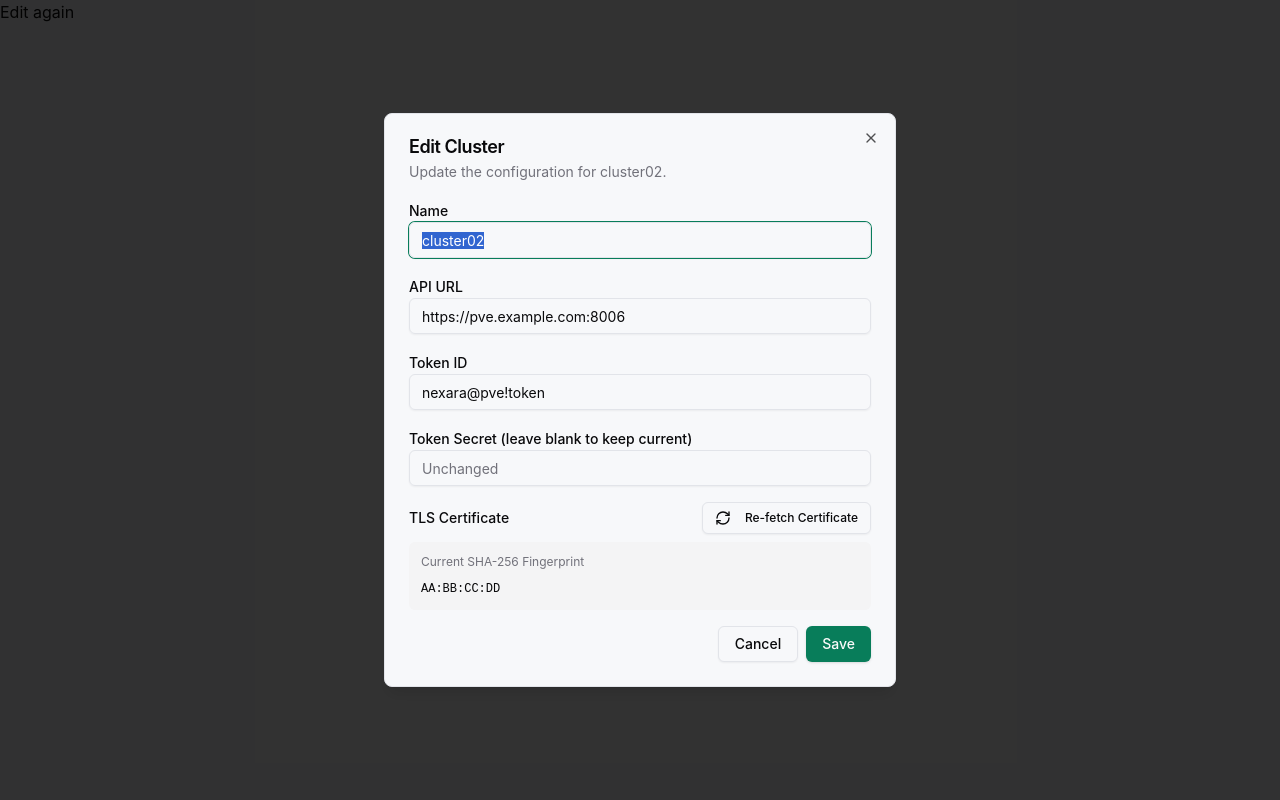
Scenario: a cluster save that settles › toasts a failure that comes after the dialog was dismissed, once, naming the cluster
Type " renamed" into the field labelled "Name".
click(640, 240); type(" renamed")  # box [409,222,871,258]
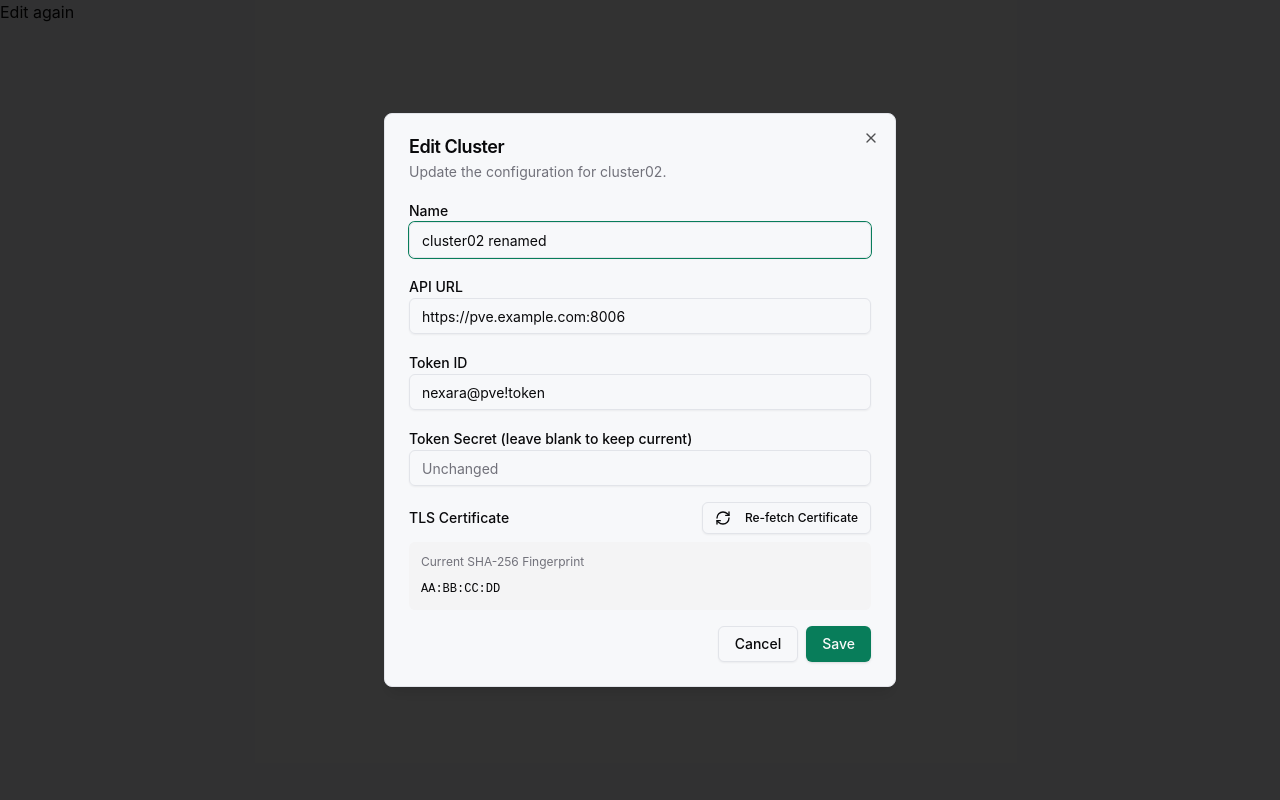
Click the button "Save".
click(839, 644)  # box [806,626,871,662]
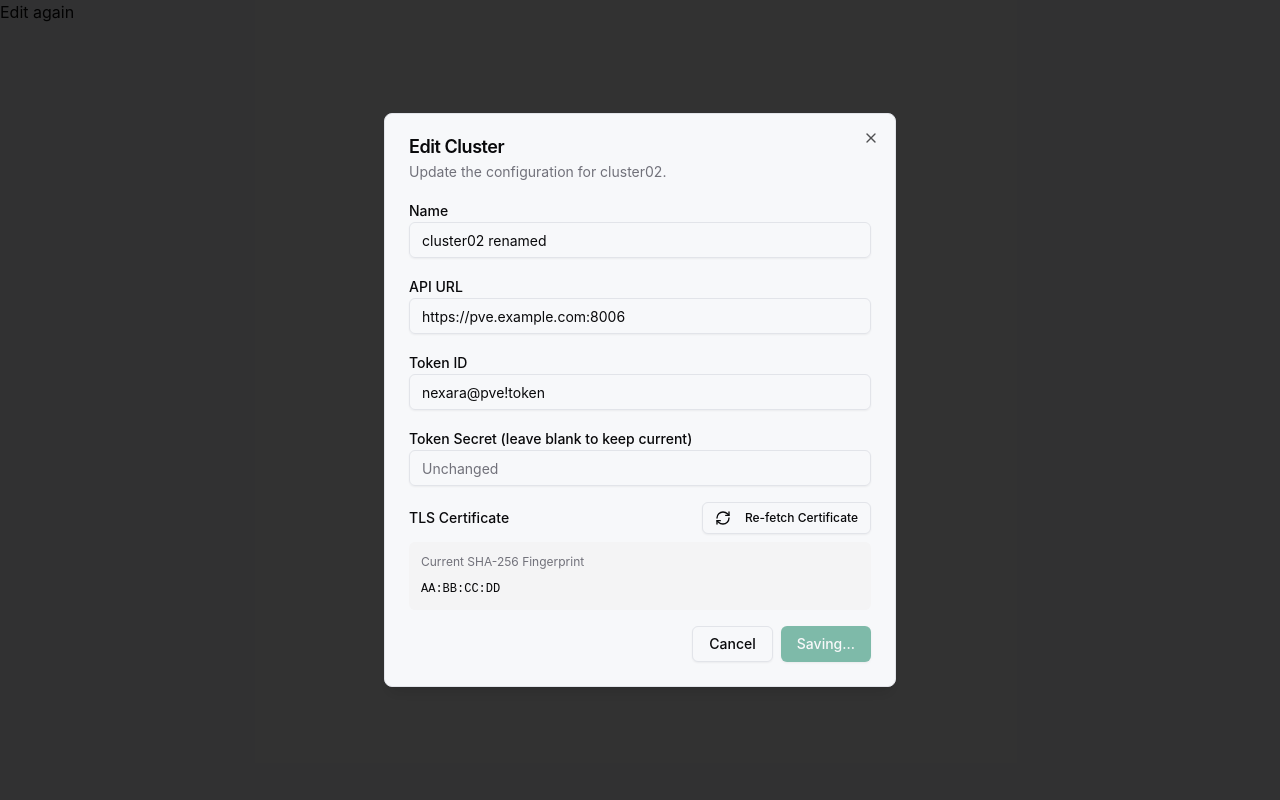
Check: the button "Saving..." is disabled, box [781,626,871,662]
Press Escape
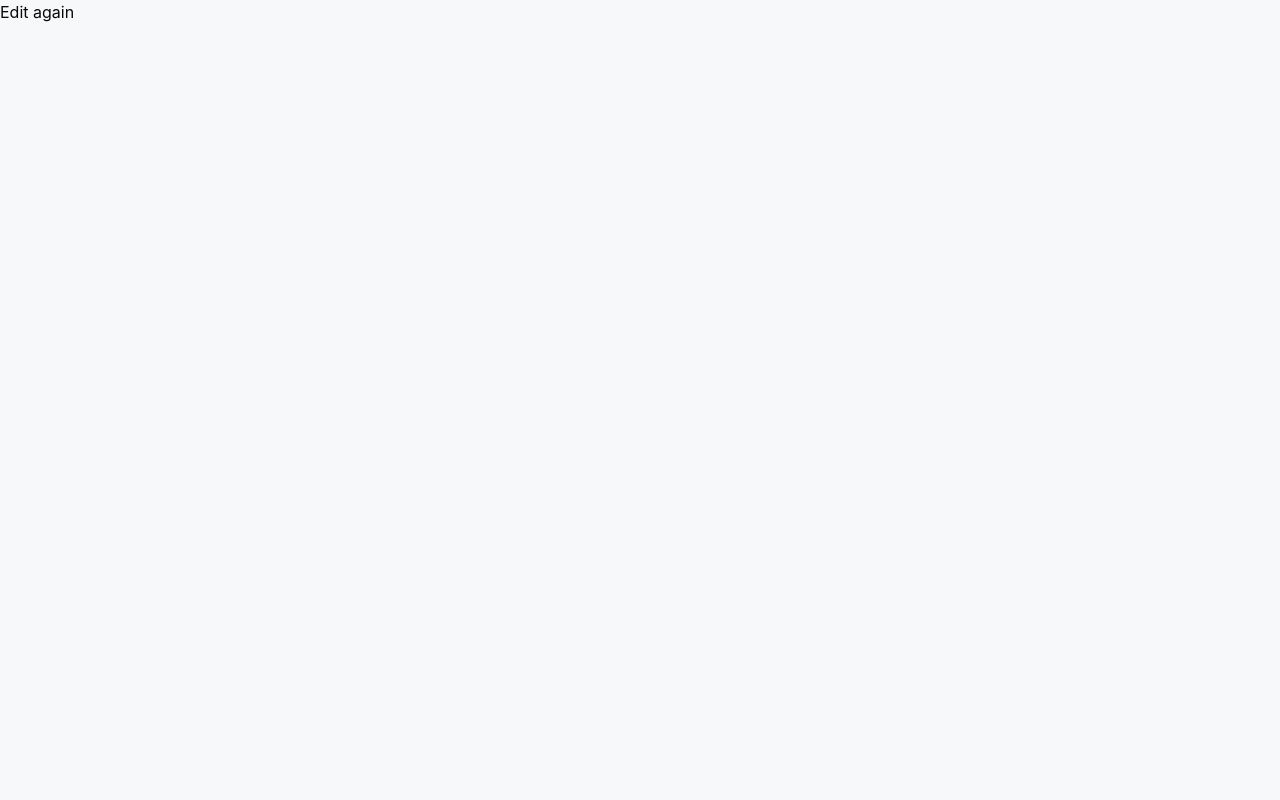
Check: the heading "Edit Cluster" is gone
